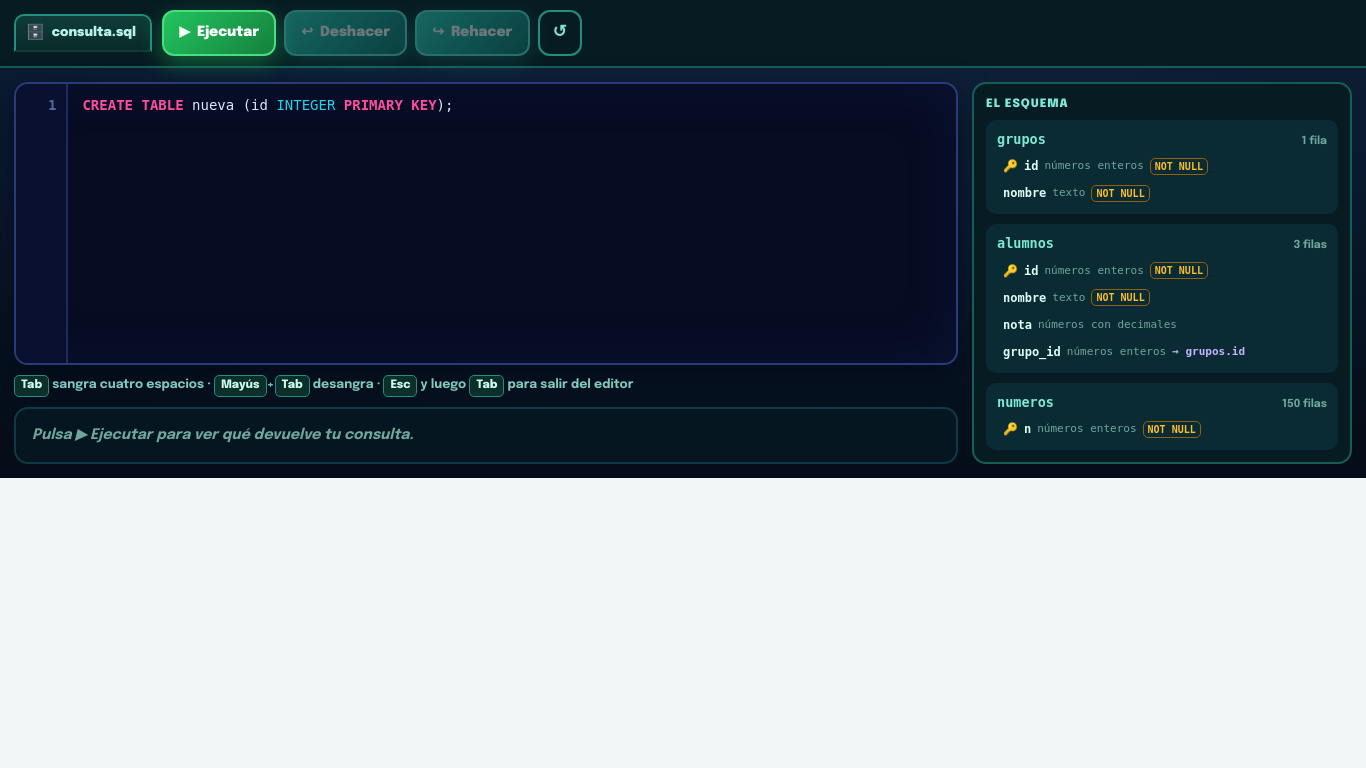
VentanaDatos › ejecutar dos veces seguidas la misma CREATE TABLE: la primera crea, la segunda avisa que ya existe
The image size is (1366, 768).
Click the button with test id "dat-ejecutar" at (219, 33), box [162,10,276,56]
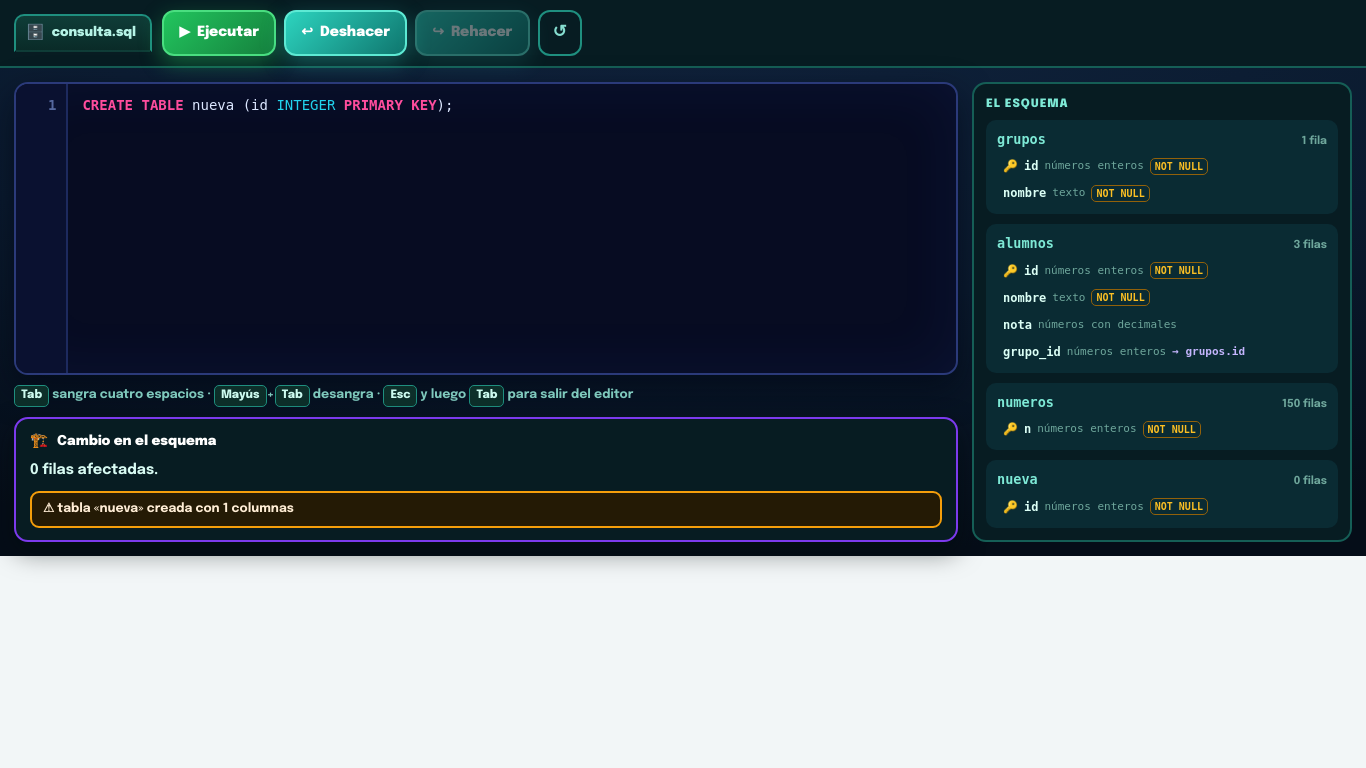
Now the element with test id "dat-tarjeta" shows "creada", box [57,502,294,515]
Click the button with test id "dat-ejecutar" at (219, 33), box [162,10,276,56]
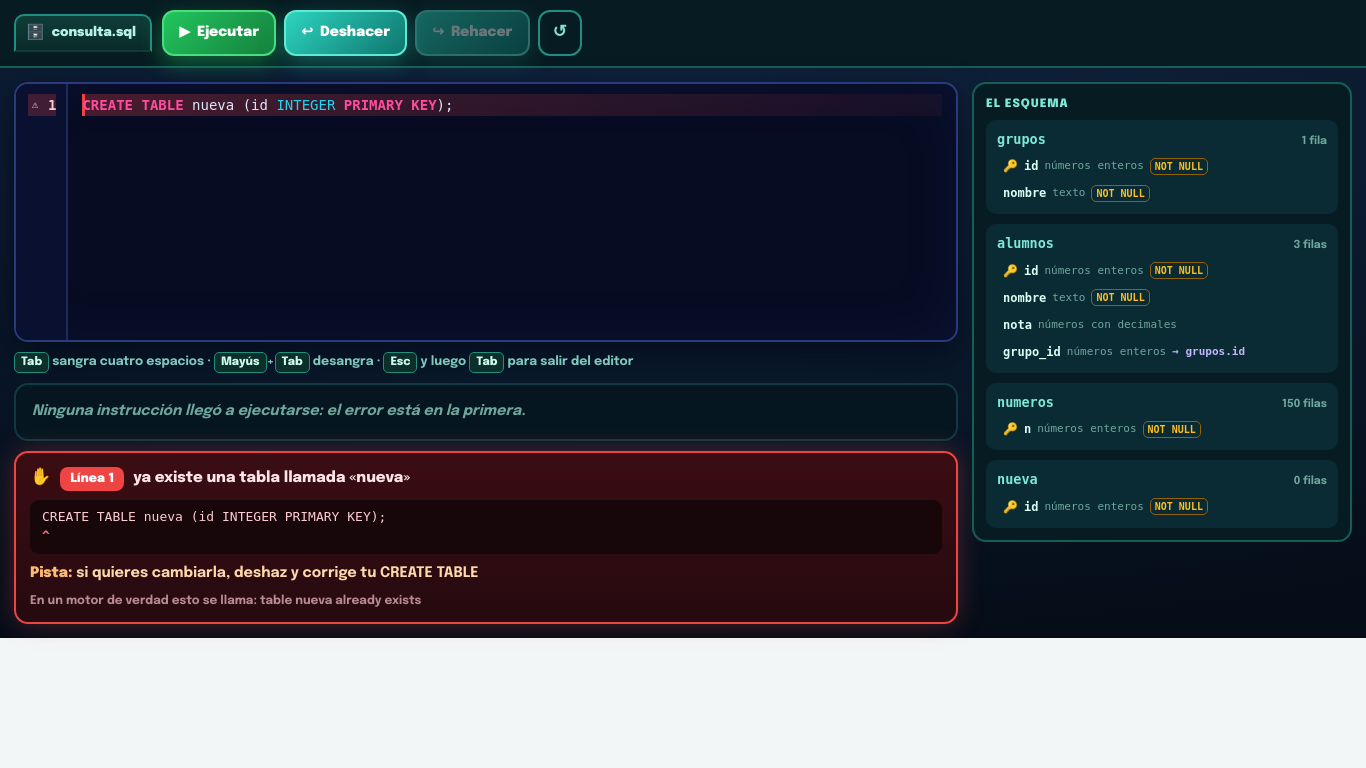
Now the message with test id "dat-error" shows "ya existe", box [133,470,410,486]
